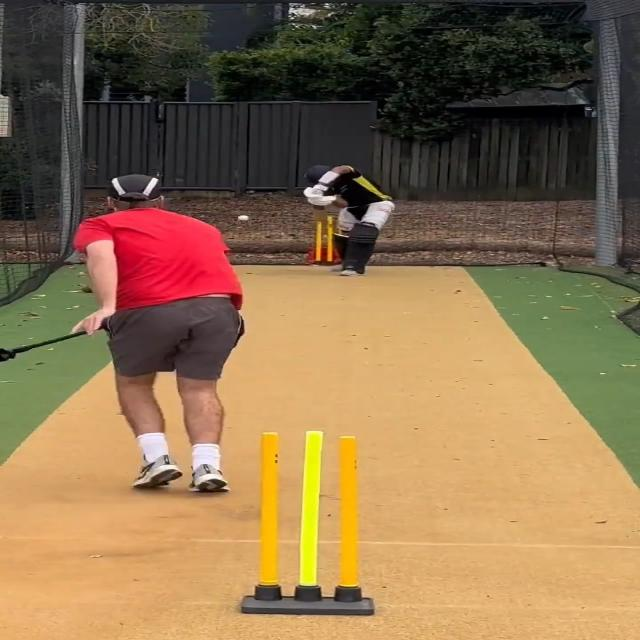ball: (236, 213, 252, 222)
stump: (240, 430, 377, 616)
